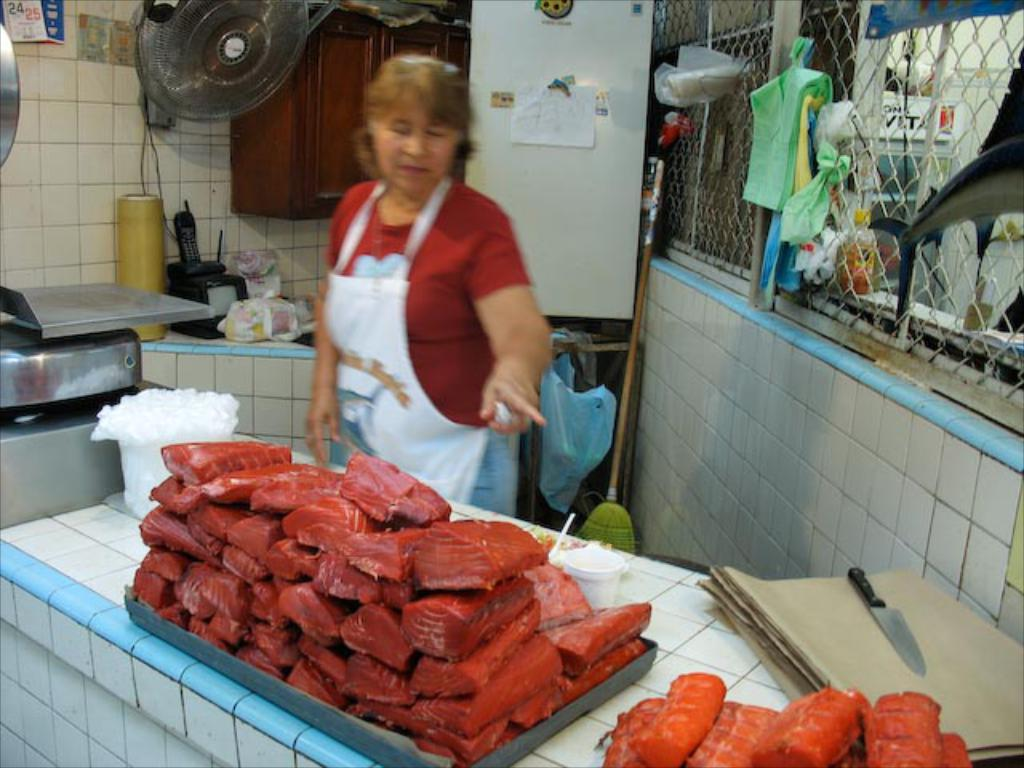Person: (302, 55, 547, 498)
